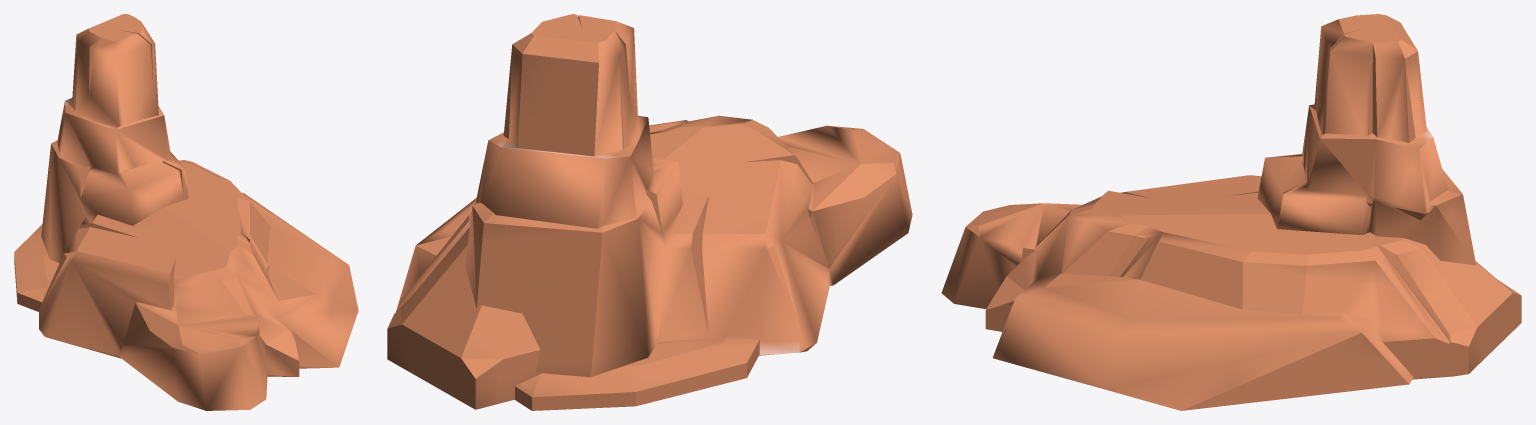
The model's file is BigRock3.fbx.
The picture shows the model from 3 angles, left to right: view 1: azimuth 30°, elevation 25°; view 2: azimuth 150°, elevation 25°; view 3: azimuth 270°, elevation 25°; orthographic projection. The views are drawn at different scales.
Visible parts, largest first — view 1: BigRock3_LOD0; view 2: BigRock3_LOD0; view 3: BigRock3_LOD0.
Part boxes in pixels (x1,y1,x2,y2): BigRock3_LOD0: (14,14,358,410); BigRock3_LOD0: (387,14,912,410); BigRock3_LOD0: (941,14,1521,410).
Size of what is drawn, in the model's own units: 372 by 316 by 561.
